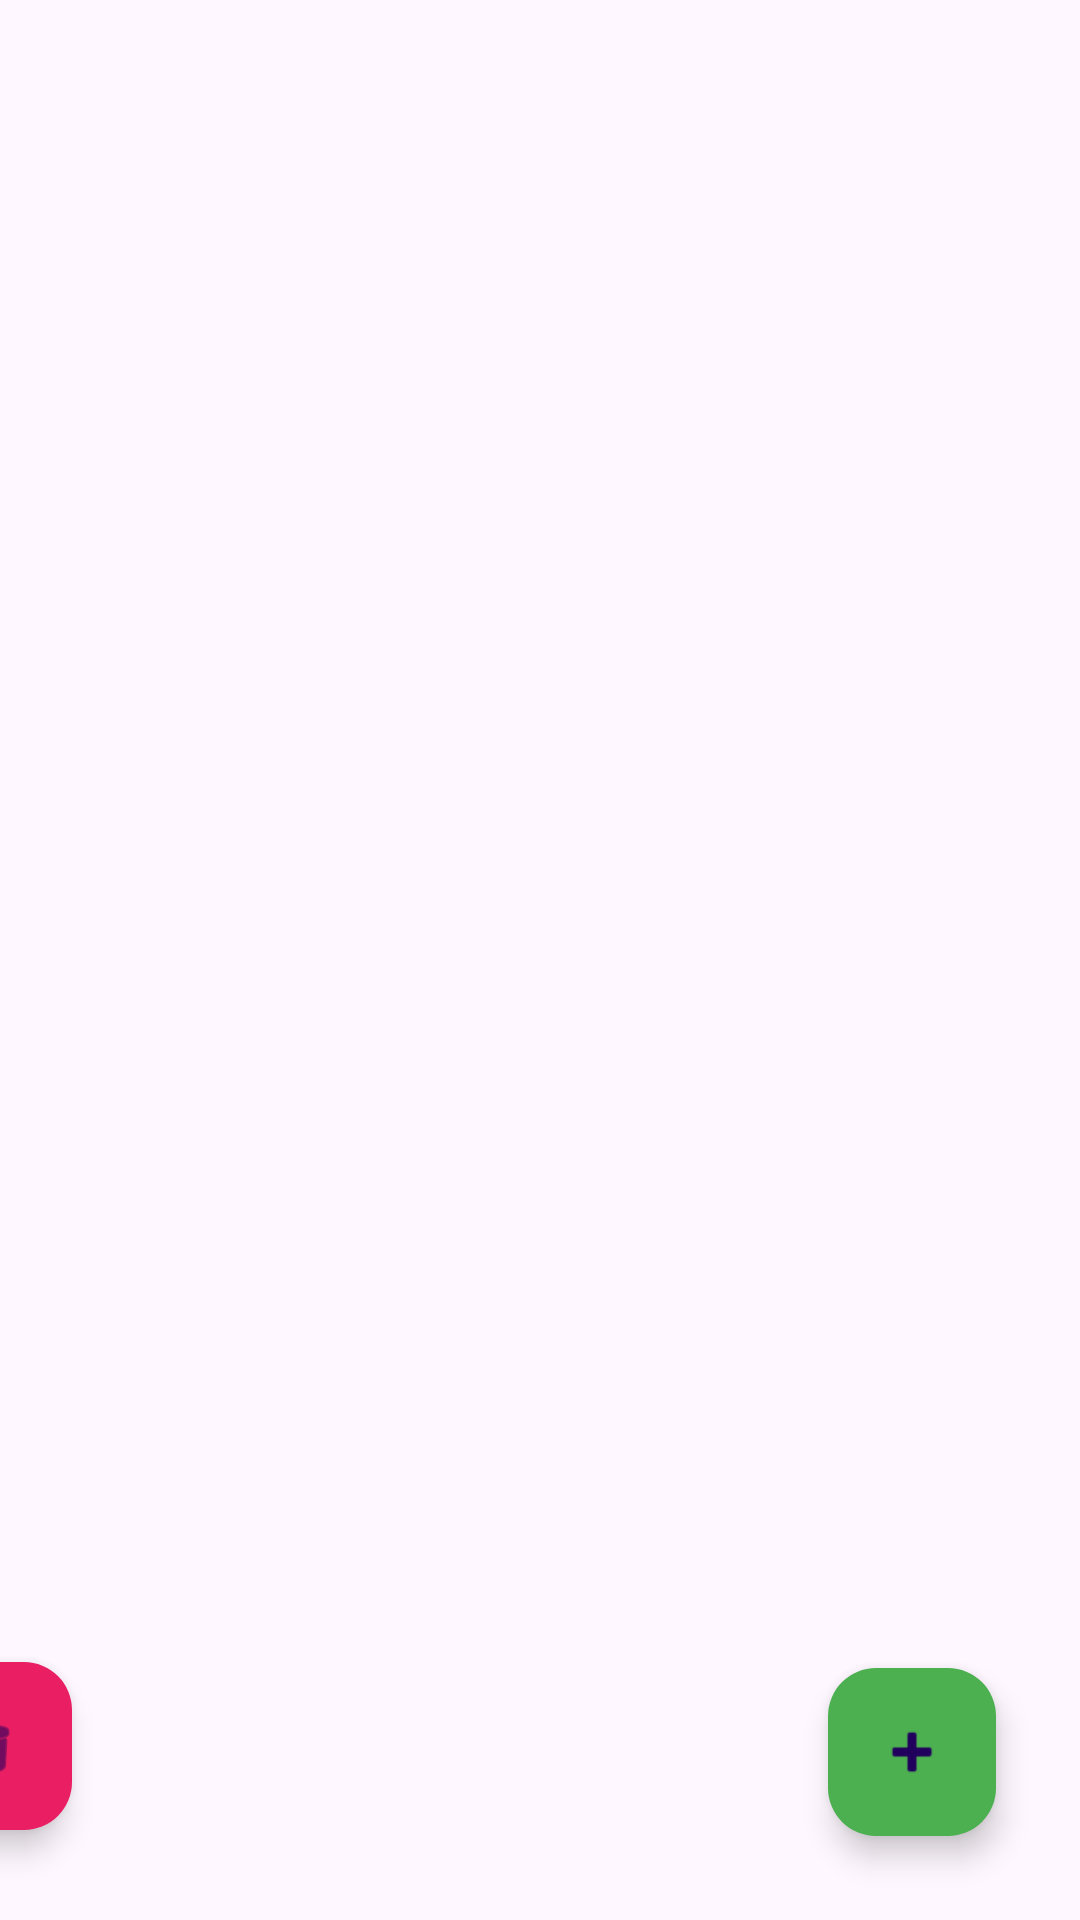

Screen size 1080px×1920px. Icon name, then its center in pixels as (x=x, y=y):
add: (x=912, y=1752)
